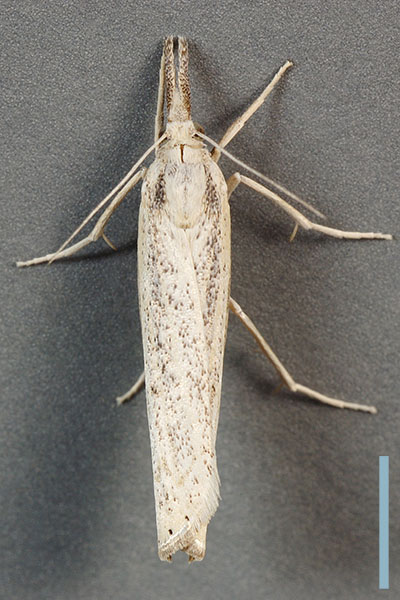Crambidae: (10, 35, 392, 560)
